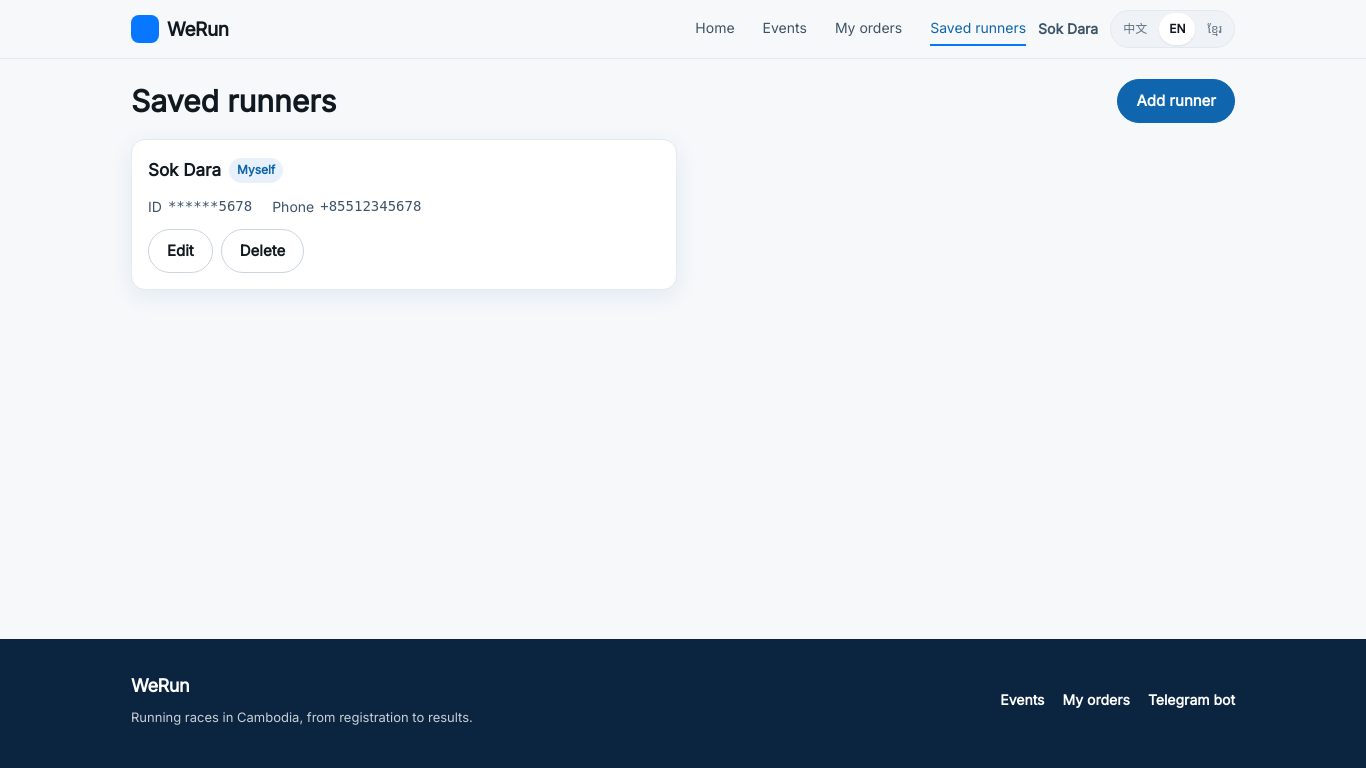
ProfilesPage › 删除需要二次确认
Click the button with test id "profile-delete-7" at (263, 251), box [221,229,304,273]
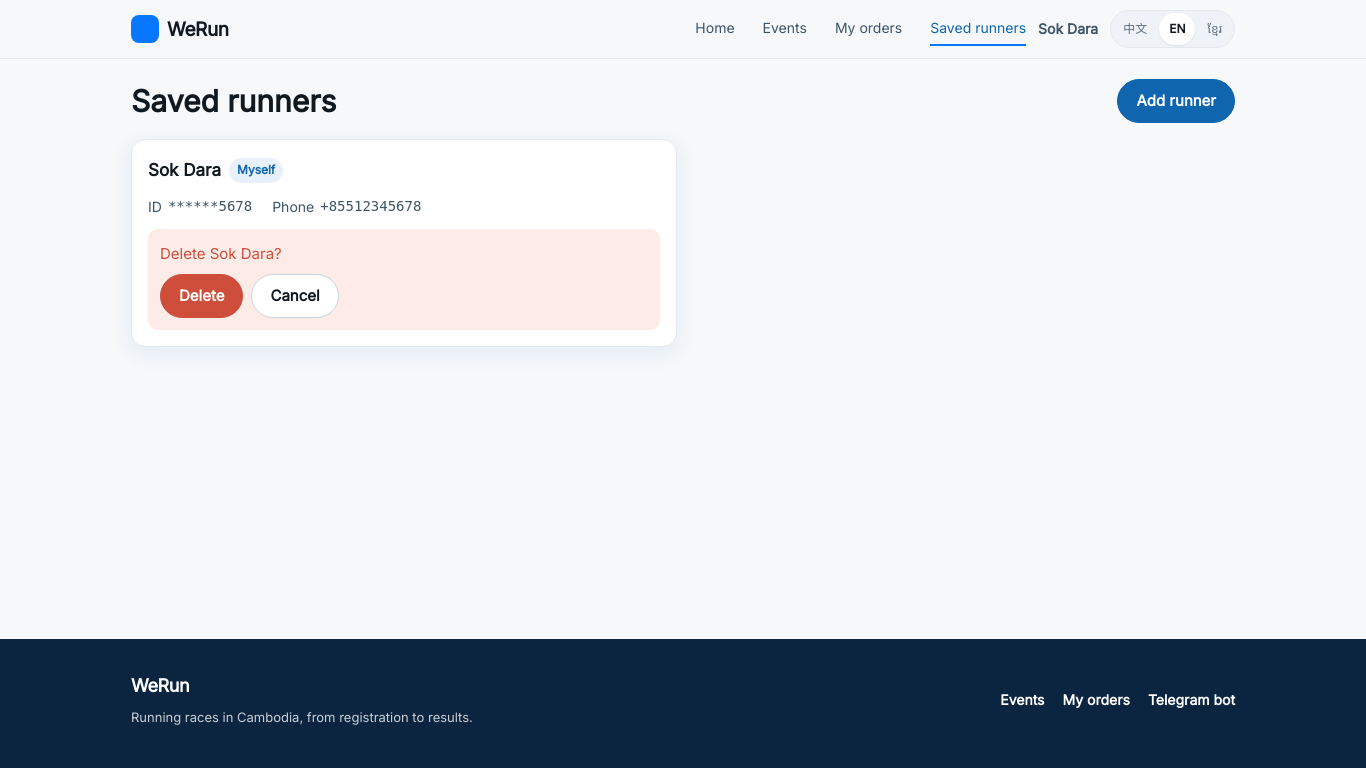
Check: the text "Delete Sok Dara?" is shown, box [160,244,282,263]
Click the button with test id "profile-delete-cancel-7" at (295, 296), box [252,274,339,318]
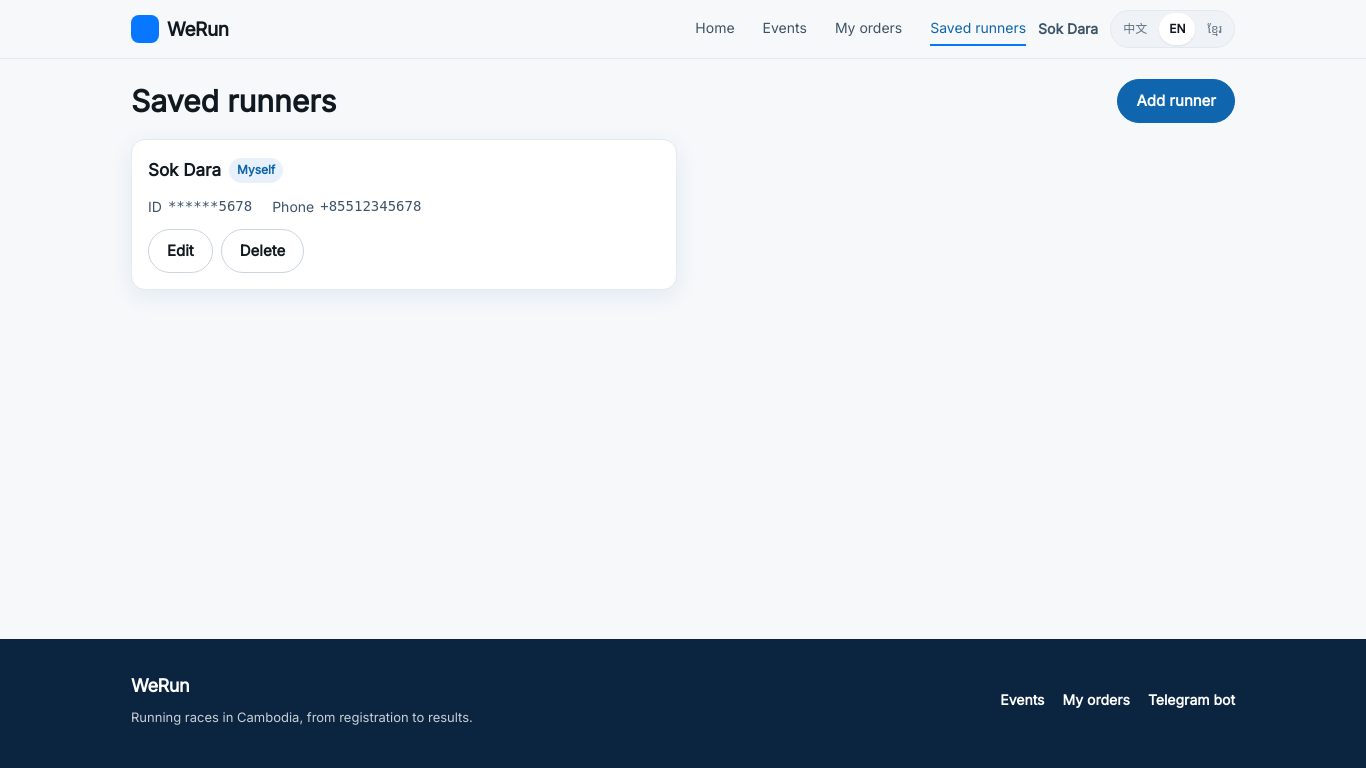
Check: the button with test id "profile-delete-confirm-7" is gone
Click the button with test id "profile-delete-7" at (263, 251), box [221,229,304,273]
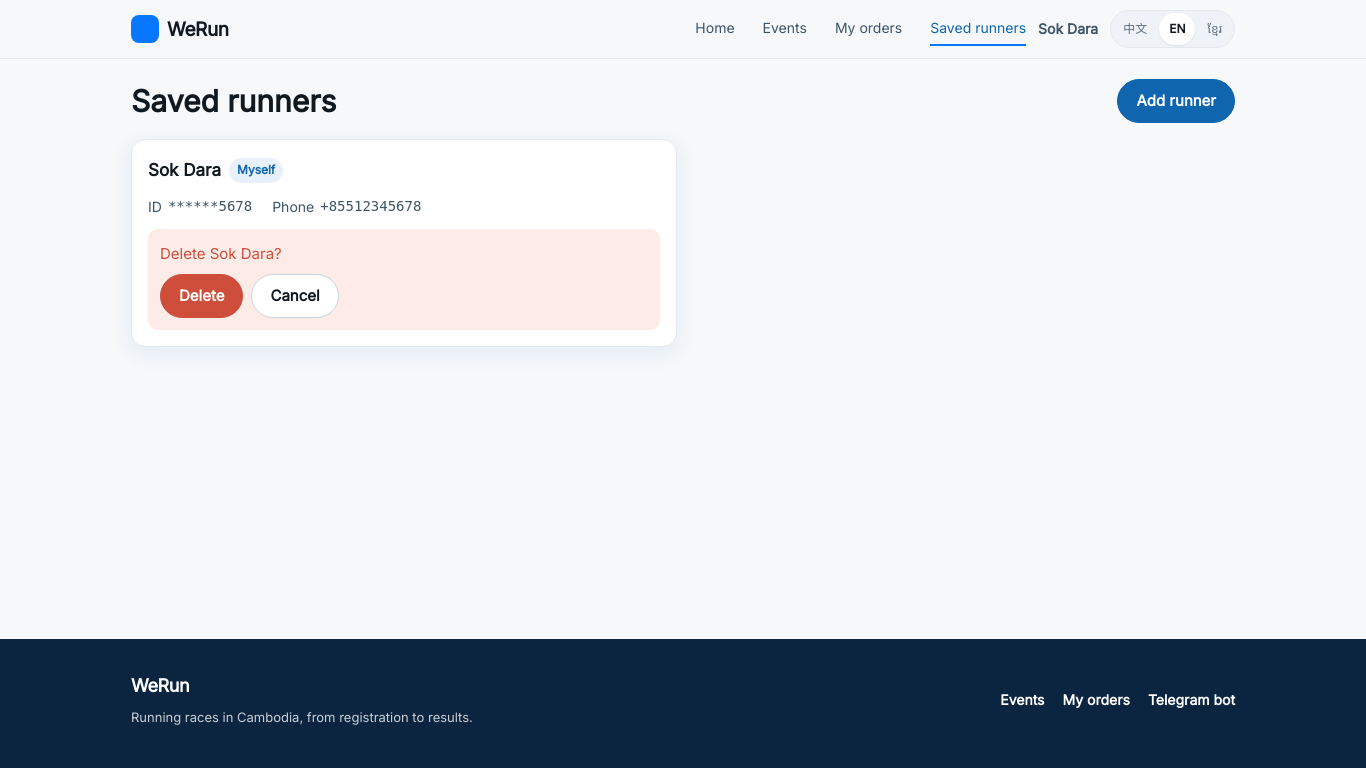
Click the button with test id "profile-delete-confirm-7" at (202, 296), box [160,274,244,318]
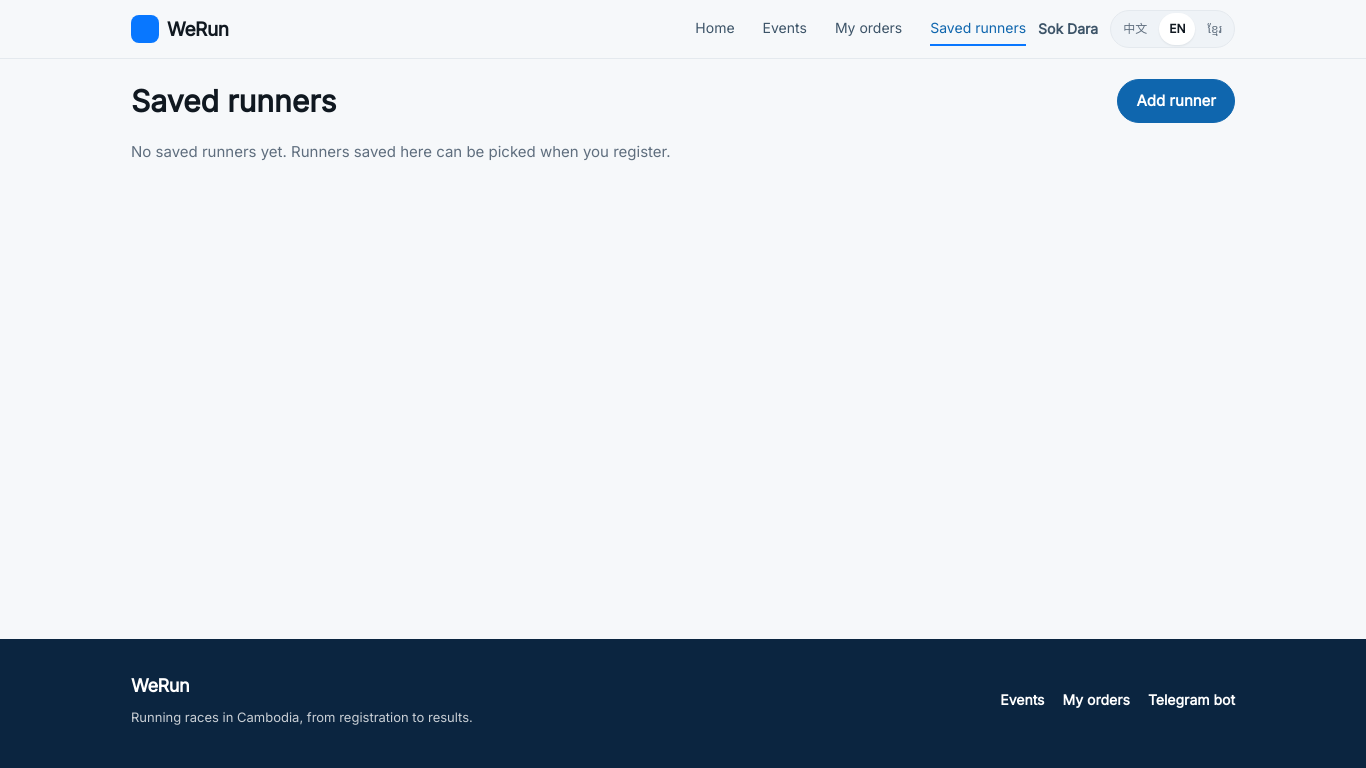
Check: the text "No saved runners yet" is shown, box [131,142,671,161]
